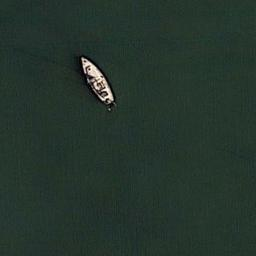boat: (76, 54, 117, 110)
